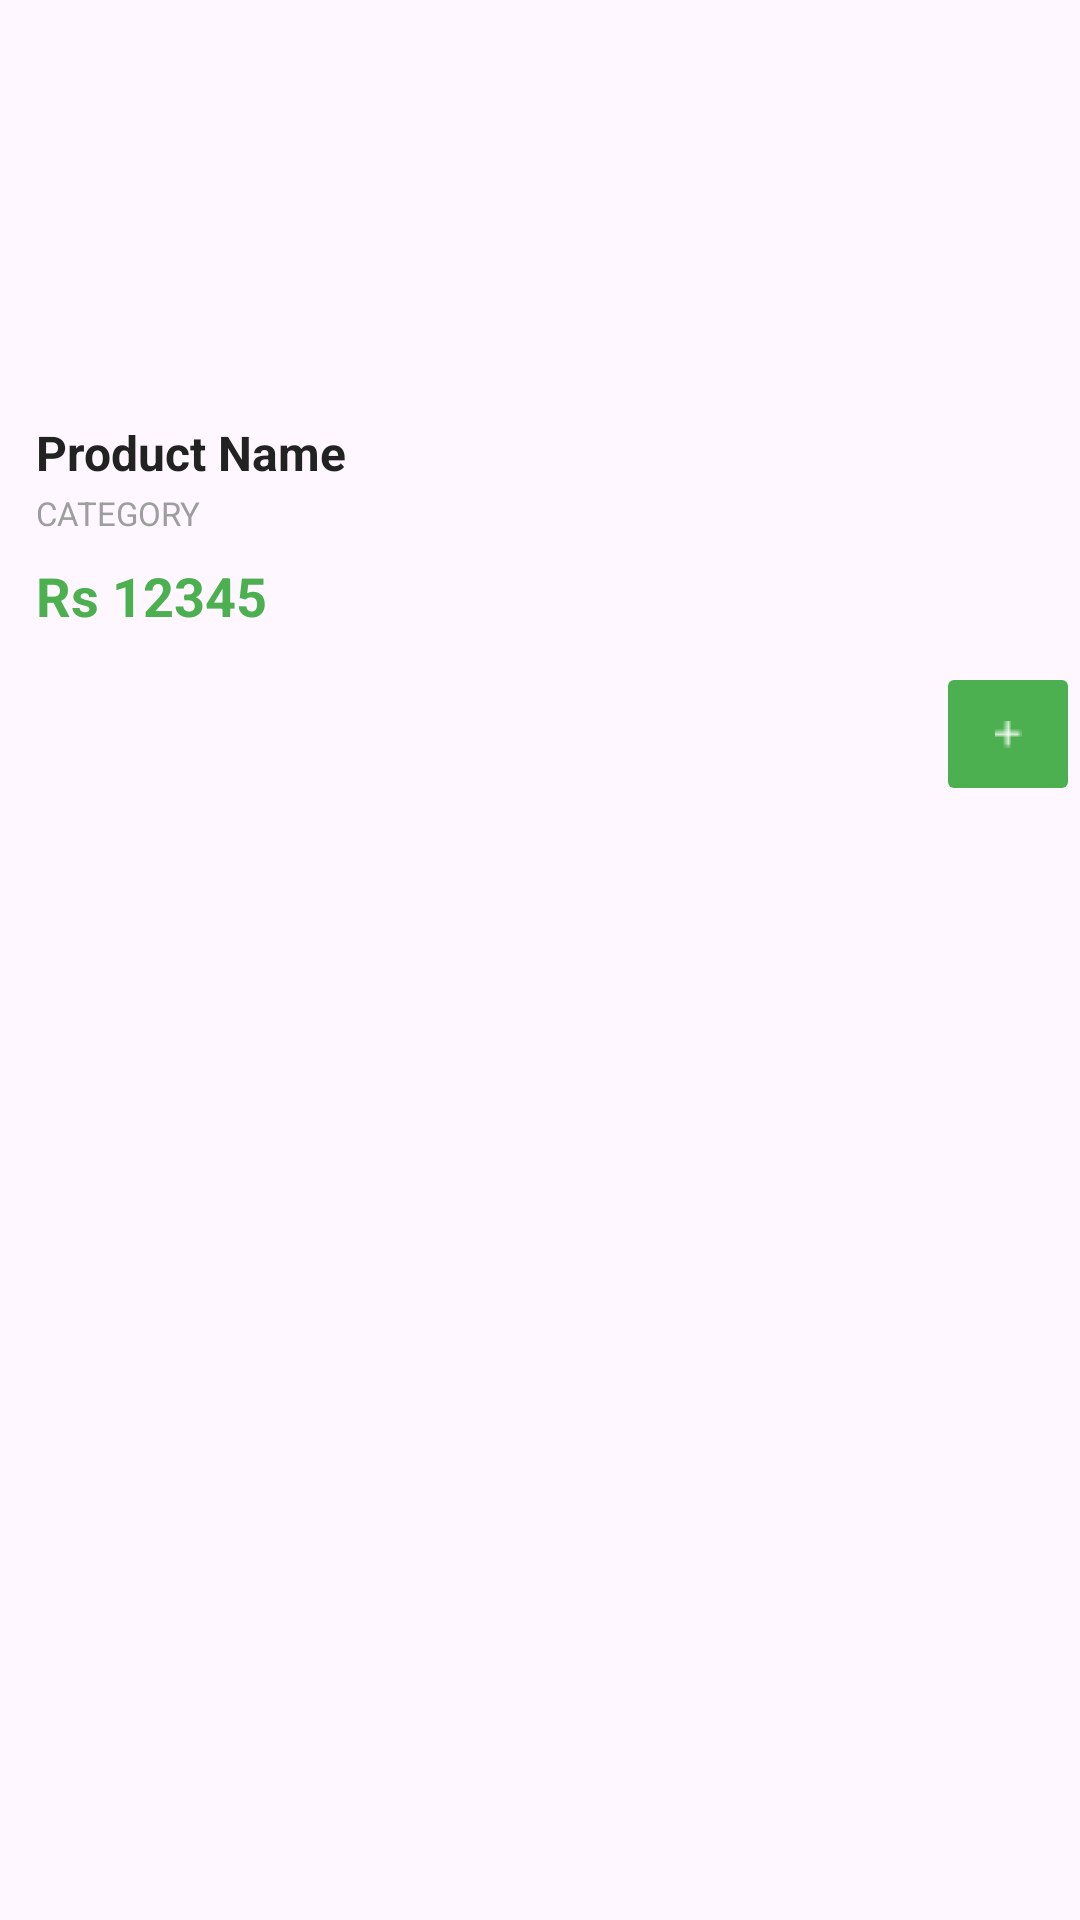

Screen size 1080×1920. Icon name, then its box in pixels as (x1, y1, x2, y2):
add: (948, 680, 1068, 788)
